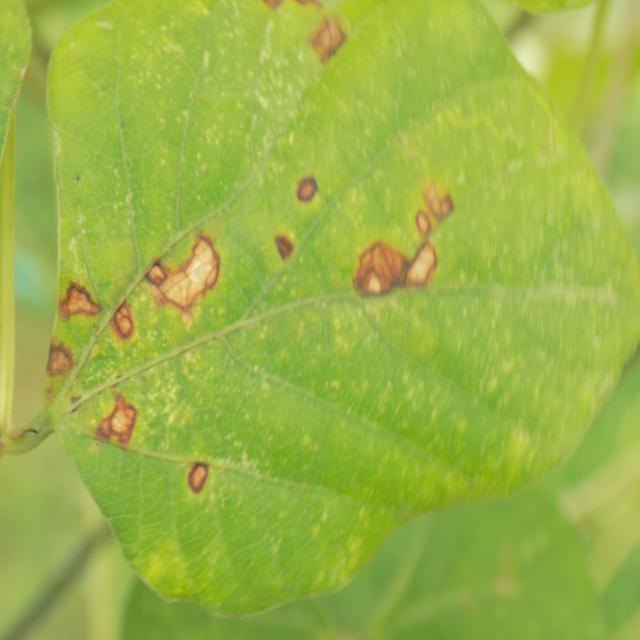Dolicos bean_cercospora leaf spot: (46, 0, 636, 620)
